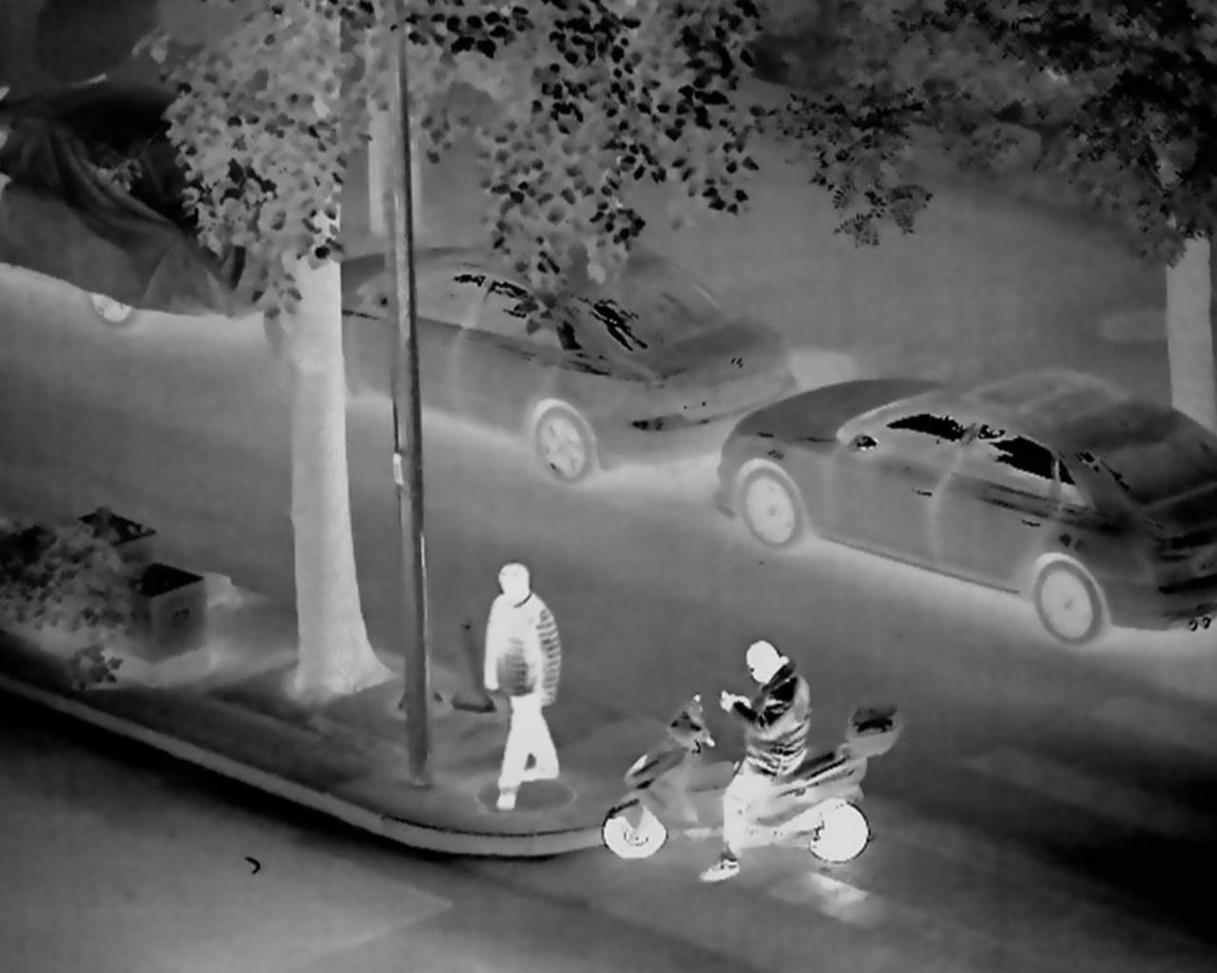person: (466, 553, 580, 821), (714, 635, 821, 888)
